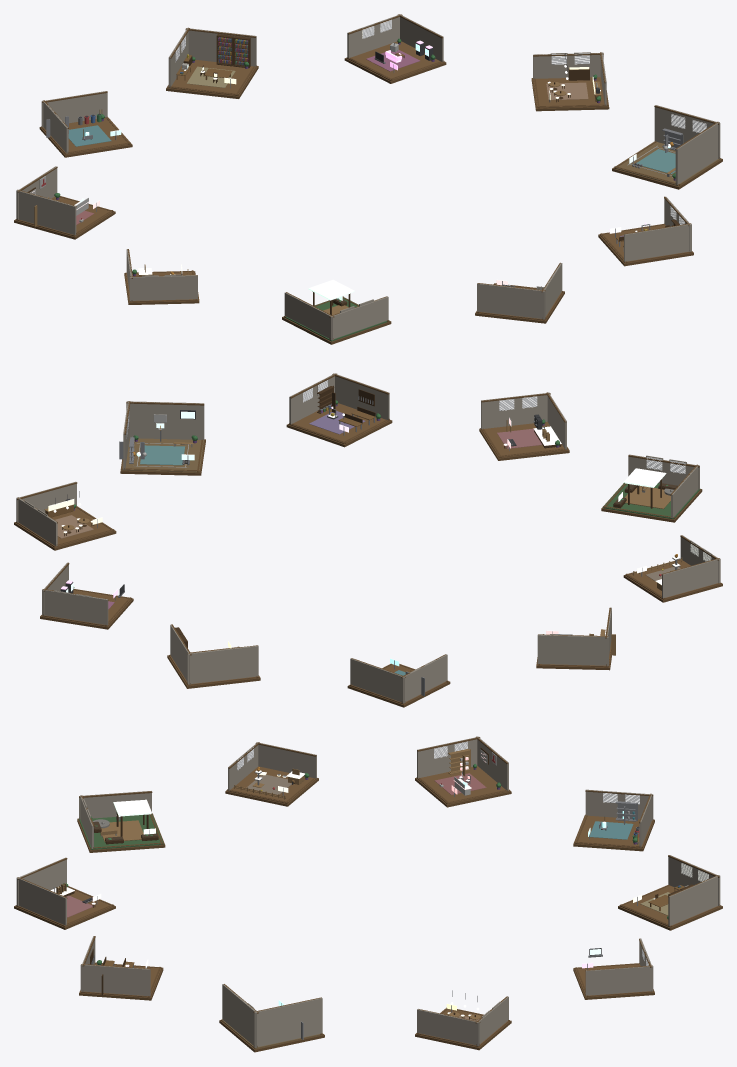
File: lumina_rooms_v1.glb
3 renders of one model, top to bottom at view 1: azimuth 30°, elevation 25°; view 2: azimuth 150°, elevation 25°; view 3: azimuth 270°, elevation 25°, orthographic. The views are drawn at different scales.
Visible parts, largest first — view 1: Z04_room_shell, Z02_room_shell, Z01_room_shell, Z10_room_shell, Z03_room_shell, Z09_room_shell, Z07_room_shell, Z05_room_shell, Z06_room_shell, Z08_room_shell, Z01_room_furn, Z07_room_furn (+3 smaller); view 2: Z04_room_shell, Z06_room_shell, Z05_room_shell, Z03_room_shell, Z01_room_shell, Z10_room_shell, Z08_room_shell, Z07_room_shell, Z02_room_shell, Z09_room_shell, Z07_room_furn, Z05_room_furn (+3 smaller); view 3: Z04_room_shell, Z09_room_shell, Z08_room_shell, Z01_room_shell, Z06_room_shell, Z10_room_shell, Z03_room_shell, Z07_room_shell, Z05_room_shell, Z02_room_shell, Z07_room_furn, Z09_room_furn (+2 smaller).
Part boxes in pixels (bbox=[...]): Z04_room_shell: bbox=[612, 105, 722, 189]; Z02_room_shell: bbox=[344, 14, 446, 83]; Z01_room_shell: bbox=[166, 27, 258, 98]; Z10_room_shell: bbox=[39, 91, 132, 157]; Z03_room_shell: bbox=[531, 52, 609, 111]; Z09_room_shell: bbox=[14, 166, 115, 239]; Z07_room_shell: bbox=[282, 292, 391, 344]; Z05_room_shell: bbox=[598, 196, 693, 266]; Z06_room_shell: bbox=[475, 262, 564, 323]; Z08_room_shell: bbox=[124, 249, 199, 304]; Z01_room_furn: bbox=[176, 34, 250, 83]; Z07_room_furn: bbox=[308, 279, 354, 315]; Z04_room_shell: bbox=[120, 401, 205, 475]; Z06_room_shell: bbox=[479, 392, 569, 460]; Z05_room_shell: bbox=[286, 373, 392, 447]; Z03_room_shell: bbox=[14, 481, 116, 550]; Z01_room_shell: bbox=[167, 624, 260, 688]; Z10_room_shell: bbox=[347, 654, 450, 707]; Z08_room_shell: bbox=[623, 535, 722, 602]; Z07_room_shell: bbox=[601, 454, 702, 522]; Z02_room_shell: bbox=[40, 562, 133, 629]; Z09_room_shell: bbox=[536, 607, 611, 670]; Z07_room_furn: bbox=[613, 468, 677, 508]; Z05_room_furn: bbox=[317, 385, 375, 431]; Z04_room_shell: bbox=[219, 984, 324, 1052]; Z09_room_shell: bbox=[415, 736, 511, 807]; Z08_room_shell: bbox=[225, 742, 318, 806]; Z01_room_shell: bbox=[618, 855, 722, 930]; Z06_room_shell: bbox=[14, 857, 115, 929]; Z10_room_shell: bbox=[573, 789, 654, 851]; Z03_room_shell: bbox=[415, 996, 511, 1050]; Z07_room_shell: bbox=[77, 791, 165, 852]; Z05_room_shell: bbox=[79, 936, 163, 1000]; Z02_room_shell: bbox=[573, 938, 654, 999]; Z07_room_furn: bbox=[93, 799, 158, 844]; Z09_room_furn: bbox=[439, 747, 496, 795].
Bounding box in the file's own units: 134 × 8.43 × 141.
